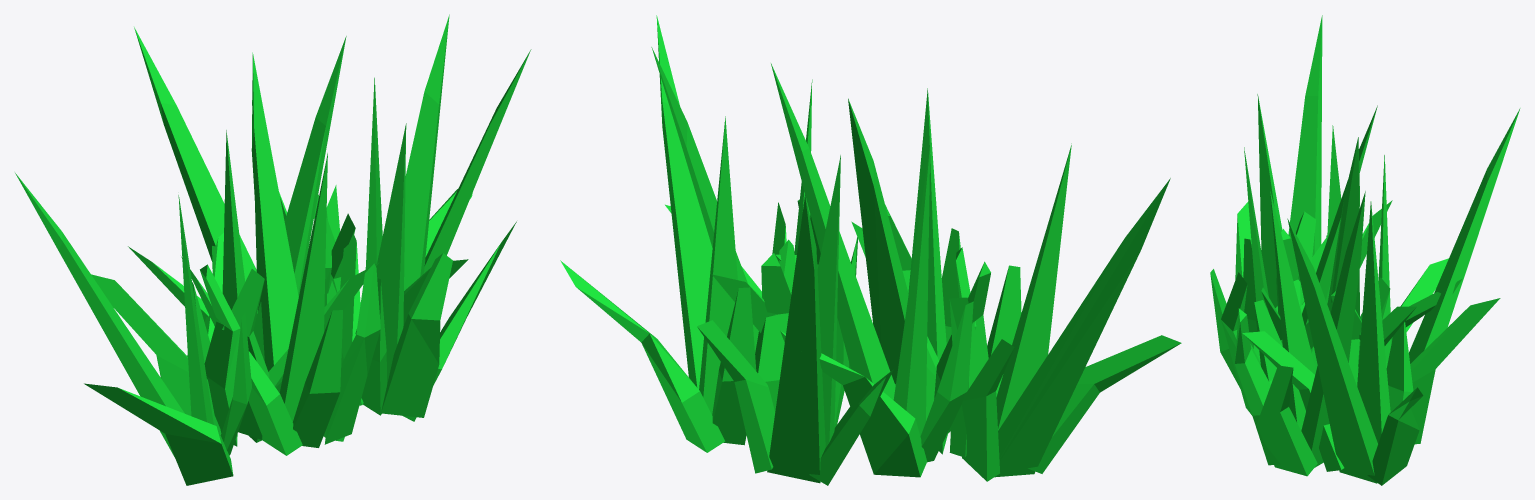
The model's file is Grass.fbx.
The picture shows the model from 3 angles, left to right: view 1: azimuth 30°, elevation 25°; view 2: azimuth 150°, elevation 25°; view 3: azimuth 270°, elevation 25°; orthographic projection. The views are drawn at different scales.
Parts seen in each view (by area): view 1: Grass; view 2: Grass; view 3: Grass.
Part boxes in pixels (x1,y1,x2,y2): Grass: [15, 14, 531, 485]; Grass: [560, 15, 1181, 485]; Grass: [1210, 15, 1520, 485].
Bounding box in the file's own units: 2.11 × 1.44 × 1.23.
